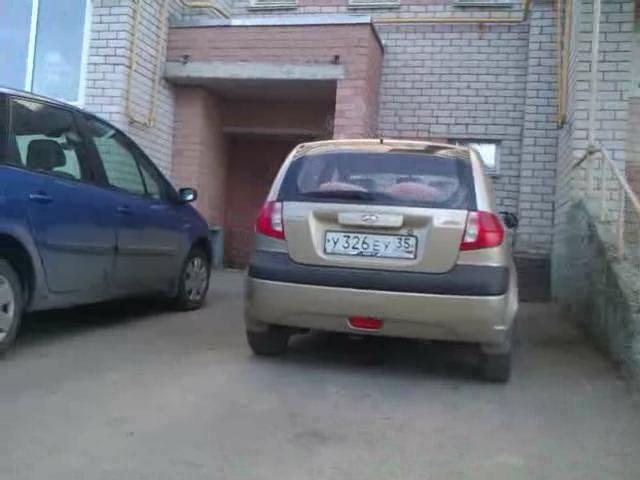car license plate: (321, 228, 421, 266)
